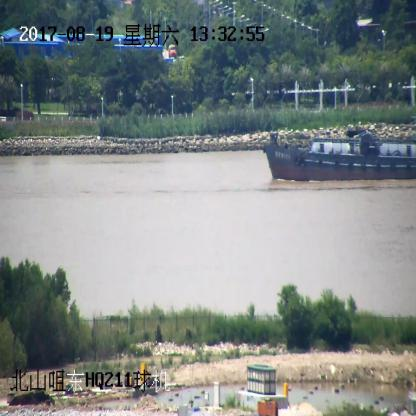Bulk Carrier: (262, 134, 416, 180)
